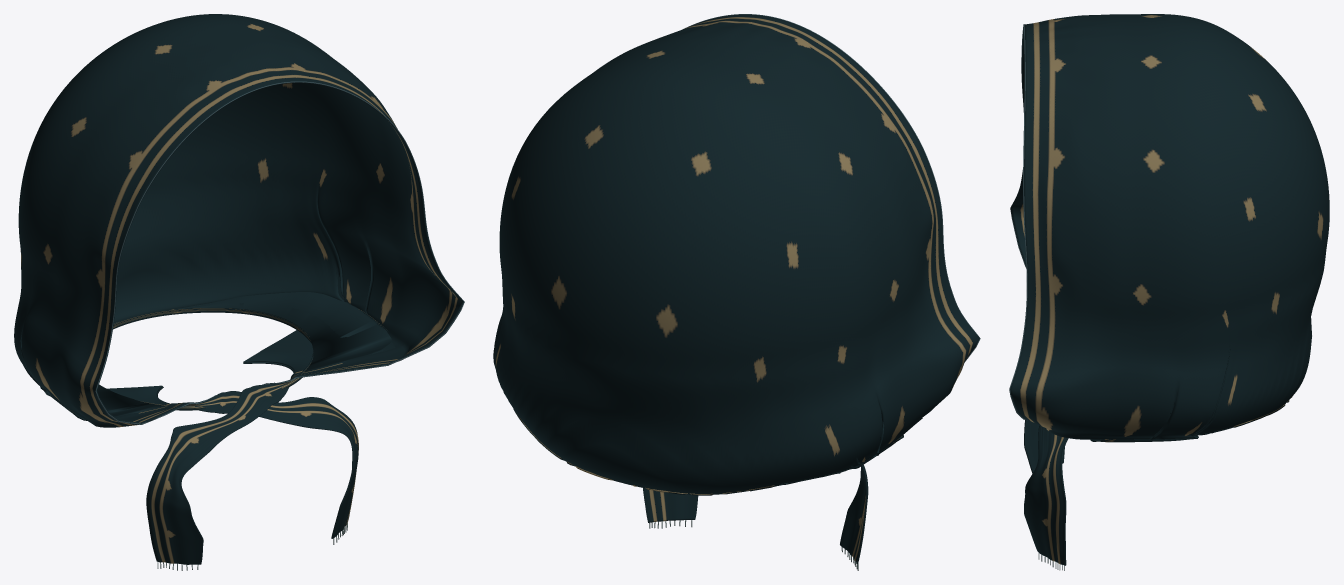
File: Feminine-Feminine-straight-jersey-pashmina250-headgear-78373d4b.glb
The picture shows the model from 3 angles, left to right: view 1: azimuth 30°, elevation 25°; view 2: azimuth 150°, elevation 25°; view 3: azimuth 270°, elevation 25°; orthographic projection. The views are drawn at different scales.
Visible parts, largest first — view 1: 226 headgear / Headwear / continuous woven pashmina239, 226 headgear / Headwear / face edge239; view 2: 226 headgear / Headwear / continuous woven pashmina239, 226 headgear / Headwear / face edge239; view 3: 226 headgear / Headwear / continuous woven pashmina239, 226 headgear / Headwear / face edge239.
Boxes of the visible parts, x1,y1,x2,y2 form: 226 headgear / Headwear / continuous woven pashmina239: (14, 14, 463, 564); 226 headgear / Headwear / face edge239: (95, 81, 464, 424); 226 headgear / Headwear / continuous woven pashmina239: (493, 14, 979, 563); 226 headgear / Headwear / face edge239: (683, 14, 980, 361); 226 headgear / Headwear / continuous woven pashmina239: (1010, 14, 1329, 565); 226 headgear / Headwear / face edge239: (1009, 24, 1027, 420).
Bounding box in the file's own units: 0.9745 × 1.23 × 0.7223.
3 materials, 1 textured.
